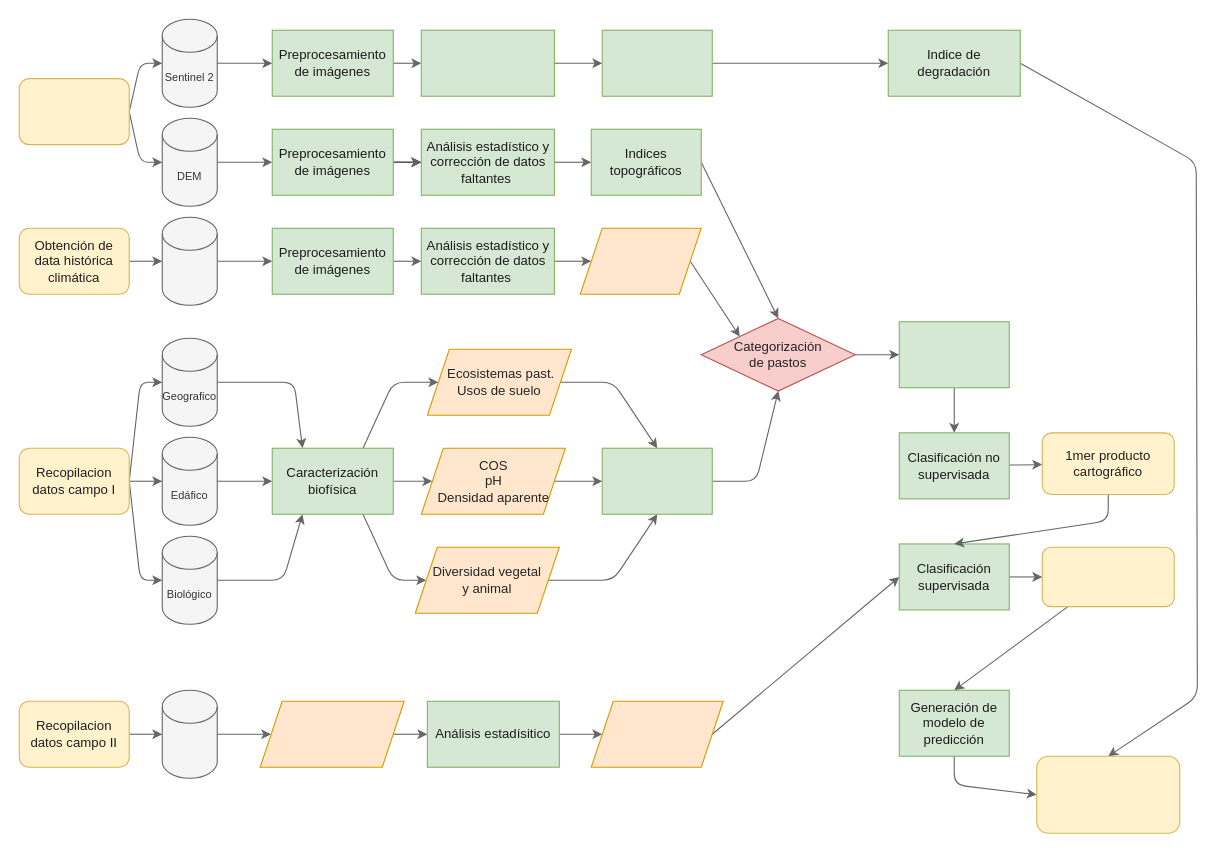
Image size: 1225x853. Some labels were removed from this diagram. The centre of each missing label's shape, as x and y in pixels:
Análisis de componentes principales - ACP: the point at 953,354
Análisis estadístico: the point at 487,62
CLIMA: the point at 189,260
Data climática: the point at 640,260
Data para validación: the point at 656,733
Indicadores ecologicos: the point at 189,733
Indices de vegetación: the point at 656,62
Integración de data: the point at 656,480
Mapa de clasificación de pastos: the point at 1107,576
Mapa de degradación de pastos: the point at 1108,794
Obtención de imagenes satelitales: the point at 73,111
Producción primaria Biomasa aérea: the point at 331,733
